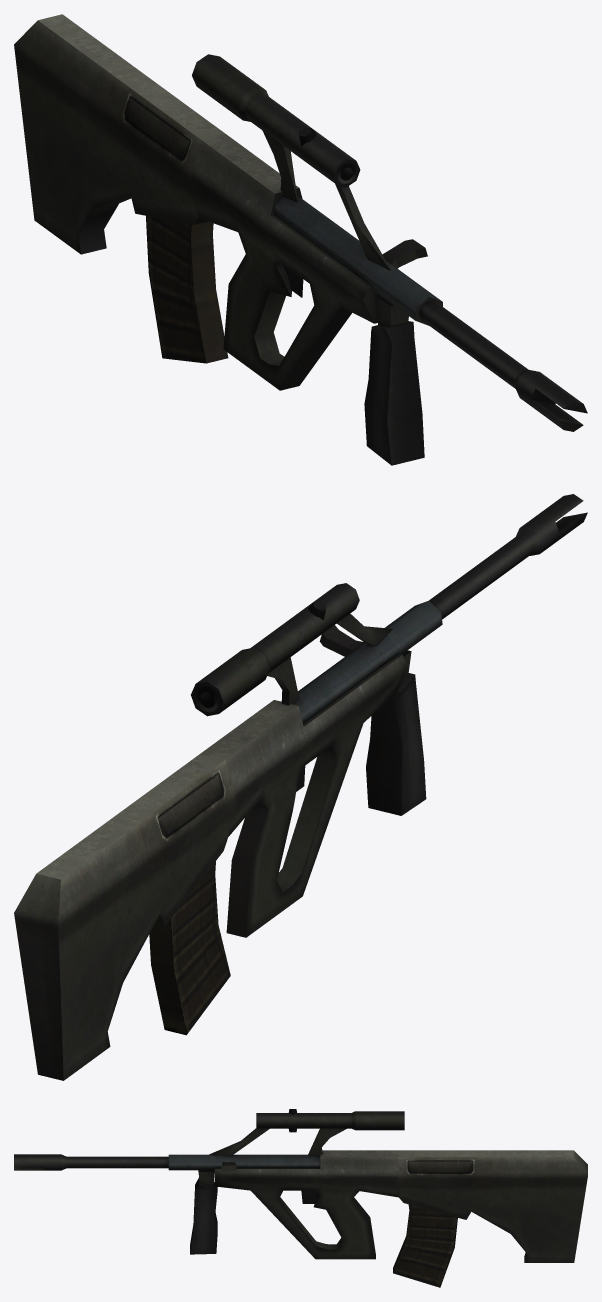
The model's file is aug.FBX.
3 views of the same model, one above another, from view 1: azimuth 30°, elevation 25°; view 2: azimuth 150°, elevation 25°; view 3: azimuth 270°, elevation 25° (orthographic). The views are drawn at different scales.
Visible parts, largest first — view 1: SMDImporter.Mesh.w_rif_aug; view 2: SMDImporter.Mesh.w_rif_aug; view 3: SMDImporter.Mesh.w_rif_aug.
Part boxes in pixels (x1,y1,x2,y2): SMDImporter.Mesh.w_rif_aug: (14, 14, 587, 465); SMDImporter.Mesh.w_rif_aug: (14, 494, 587, 1080); SMDImporter.Mesh.w_rif_aug: (14, 1109, 587, 1287).
Bounding box in the file's own units: 6.71 × 29.76 × 88.04.
